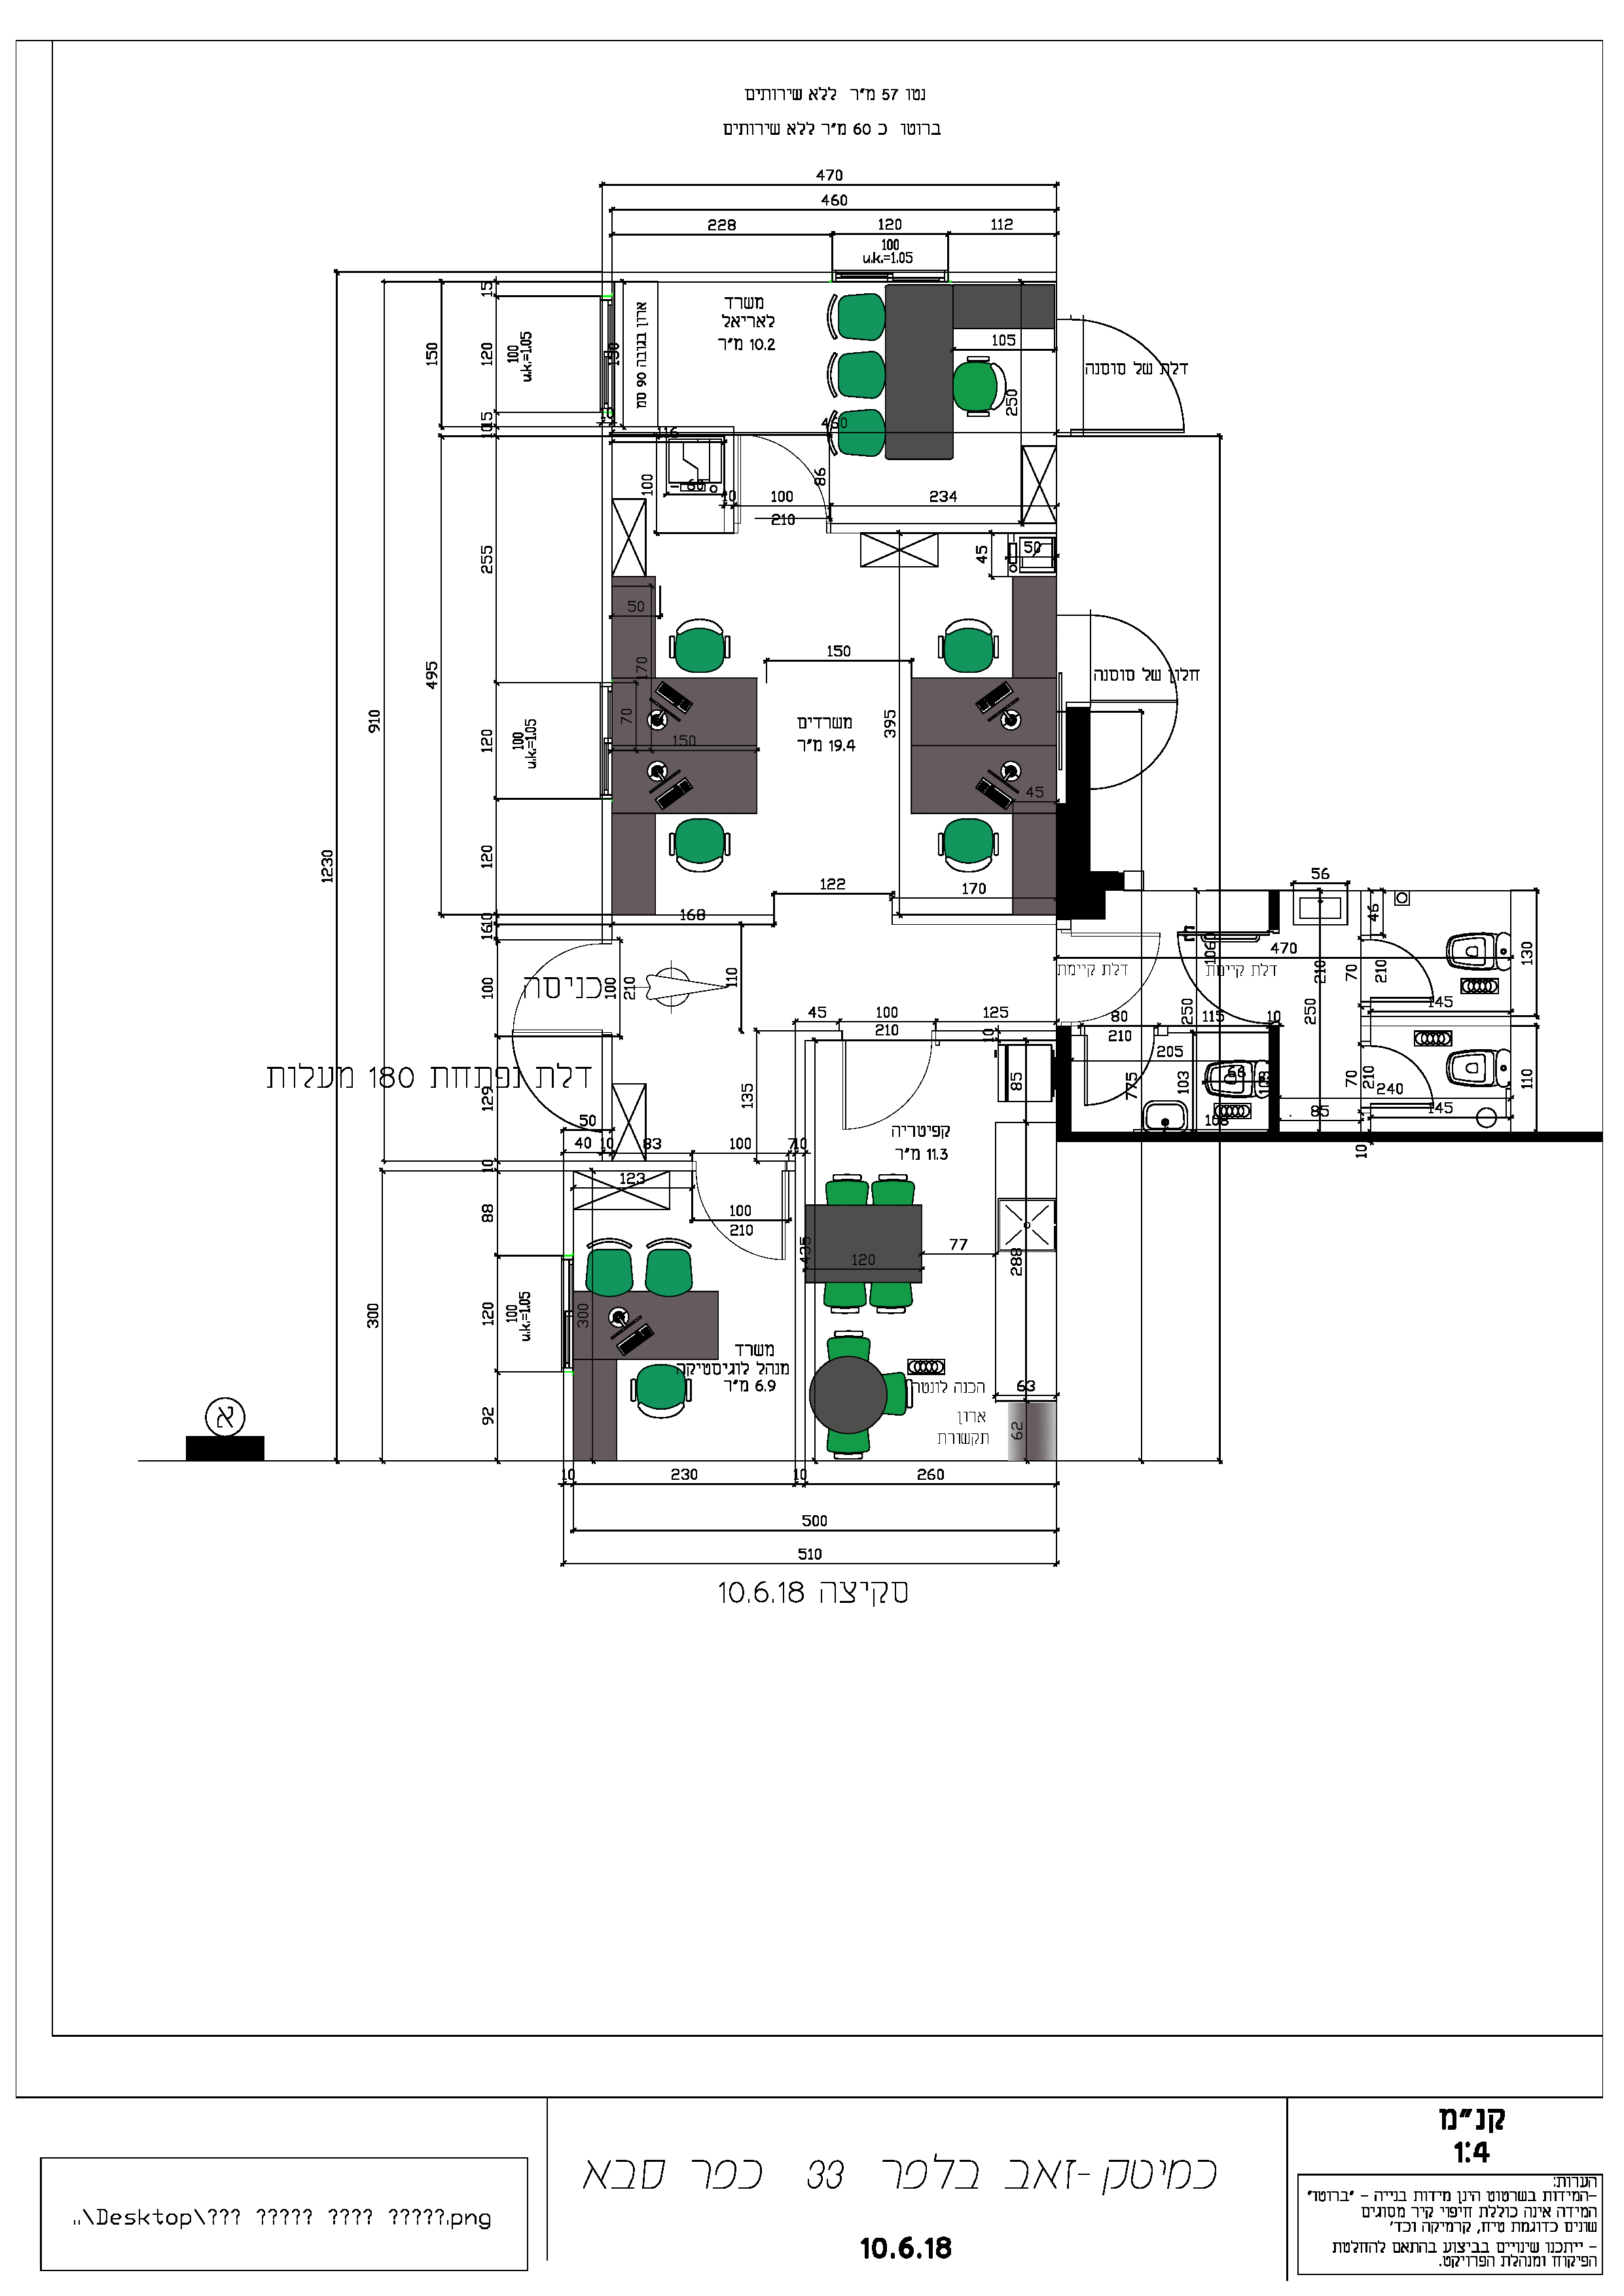door: (1093, 318, 1193, 434)
wall: (1065, 711, 1090, 913), (1065, 1133, 1589, 1142), (1056, 1031, 1070, 1140), (1267, 1029, 1281, 1137)
window: (831, 264, 951, 285), (554, 1256, 575, 1370), (592, 682, 610, 798)
